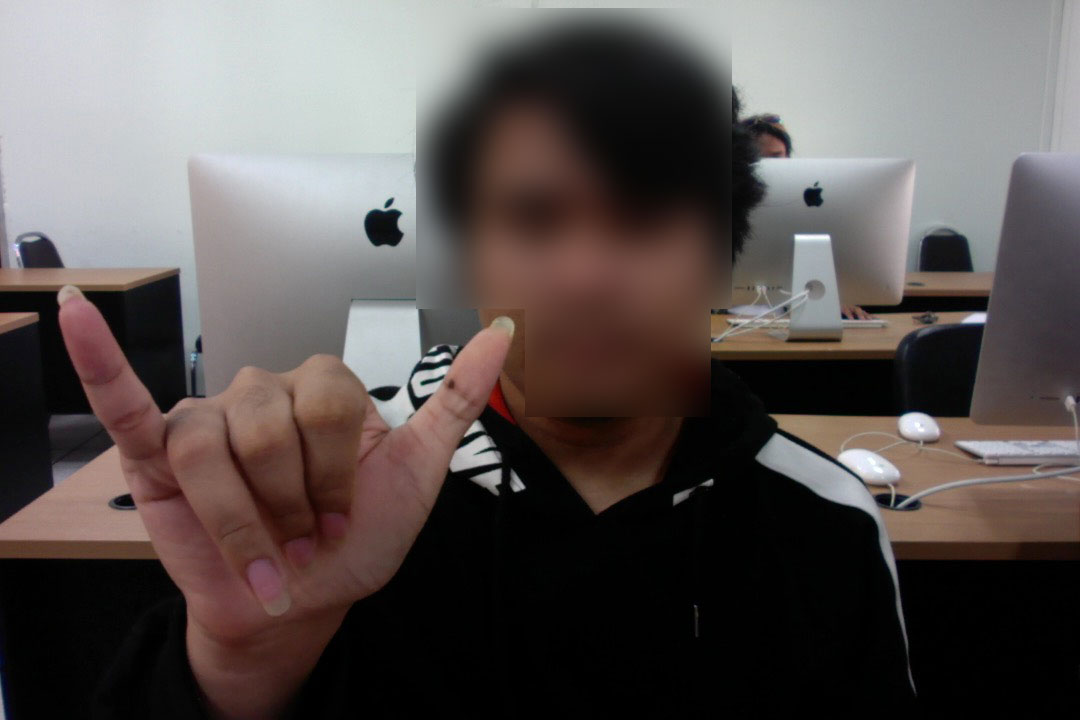yor: (47, 278, 531, 654)
